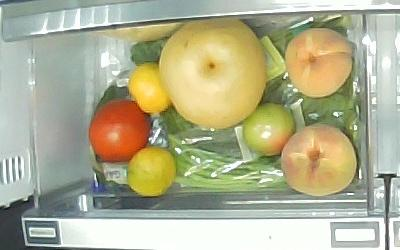peach: (280, 123, 358, 196), (284, 26, 354, 99)
pear: (159, 16, 267, 129)
tangerine: (126, 146, 177, 197), (128, 61, 173, 115)
tomato: (88, 99, 152, 164), (243, 102, 295, 157)
